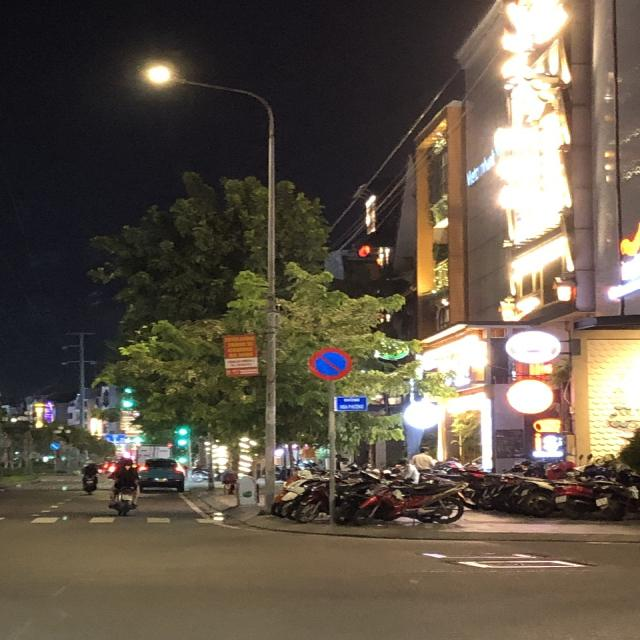Bien bao cam do xe: (304, 344, 354, 382)
